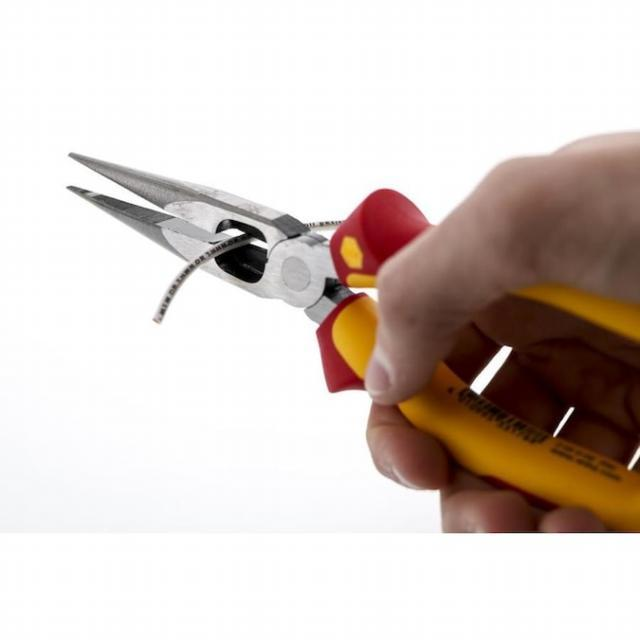pliers: (57, 143, 640, 529)
